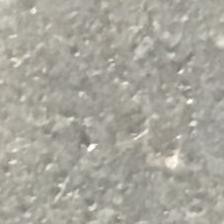Non_Crack: (19, 12, 224, 209)
